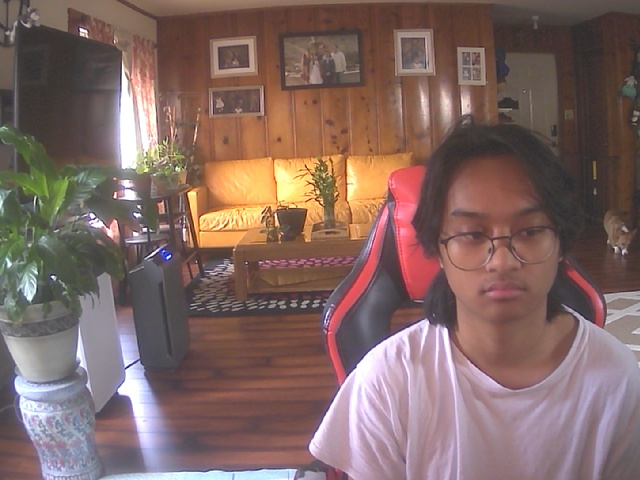neutral: (436, 143, 563, 324)
